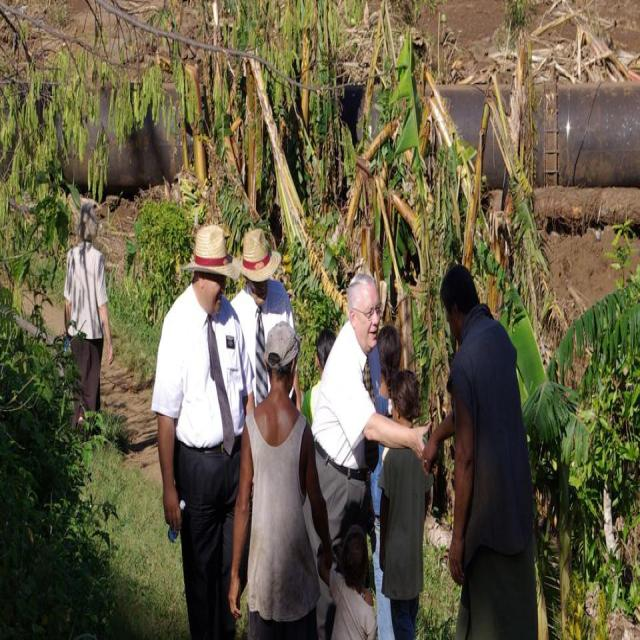body: (304, 271, 433, 639), (148, 219, 257, 639), (420, 258, 539, 639), (226, 316, 334, 639), (376, 362, 438, 638), (230, 227, 297, 413), (63, 199, 115, 434), (369, 323, 403, 640), (316, 521, 379, 640), (302, 325, 338, 429)
